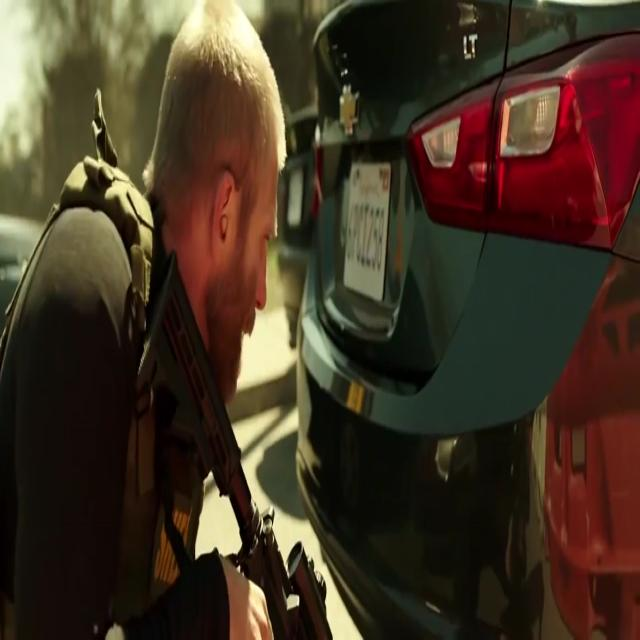Weapon: (168, 302, 368, 640)
